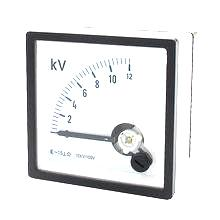pointer: (34, 38, 167, 188)
